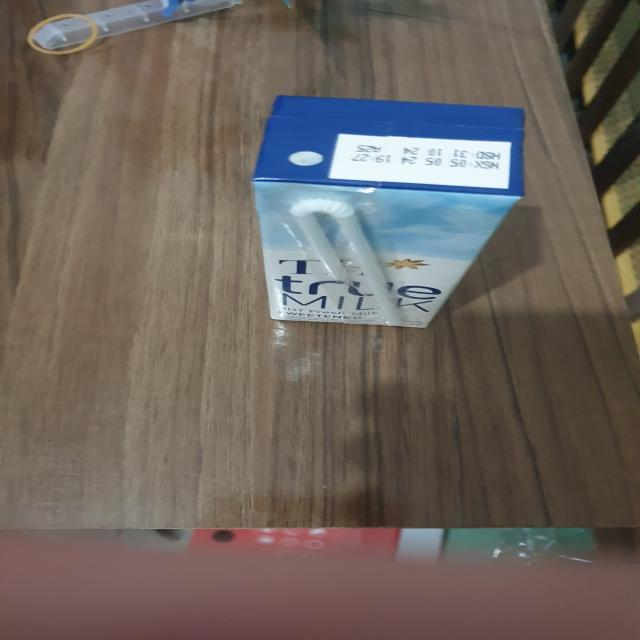TH: (252, 91, 529, 331)
